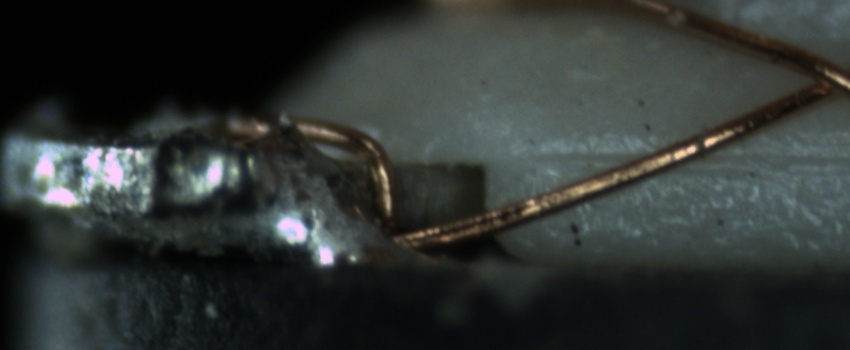CL: (778, 47, 848, 108)
DL: (506, 127, 850, 191)
TE: (221, 109, 403, 246)
